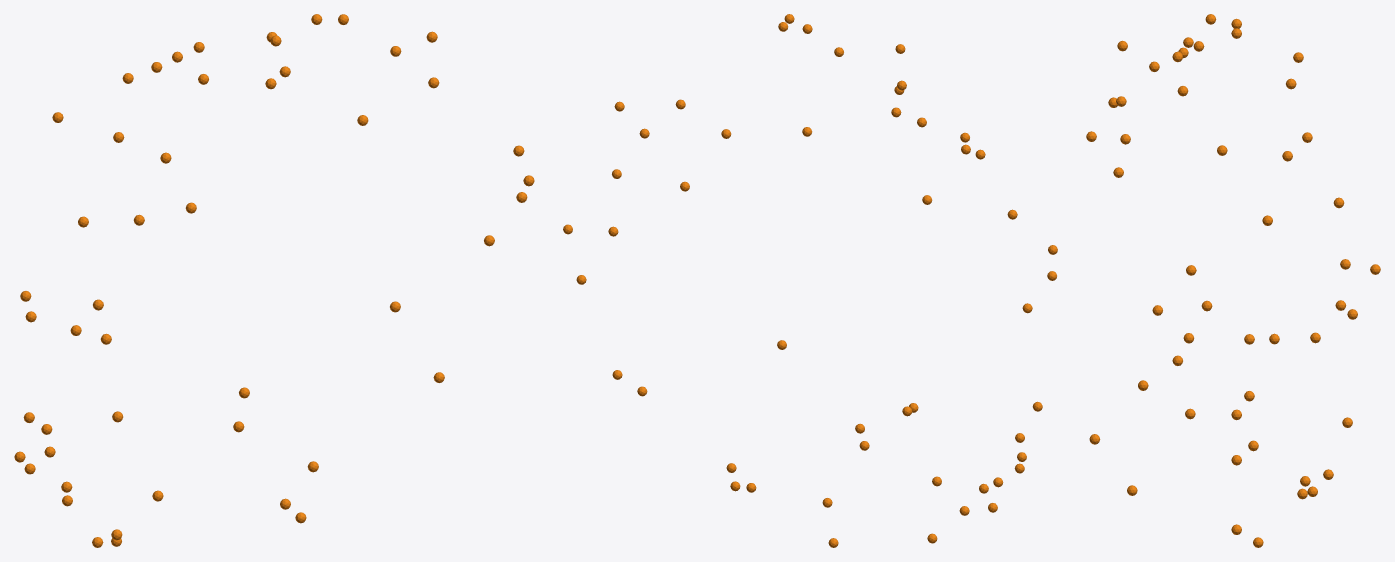
The model's file is citrus_a_fruit.obj.
3 views of the same model, side by side, from view 1: azimuth 30°, elevation 25°; view 2: azimuth 150°, elevation 25°; view 3: azimuth 270°, elevation 25° (orthographic). The views are drawn at different scales.
Parts seen in each view (by area): view 1: fruit; view 2: fruit; view 3: fruit.
Part boxes in pixels (x1,y1,x2,y2): fruit: [14, 14, 534, 547]; fruit: [563, 14, 1057, 547]; fruit: [1086, 14, 1380, 547].
Size of the model in its own units: 4 by 3.82 by 2.07.
